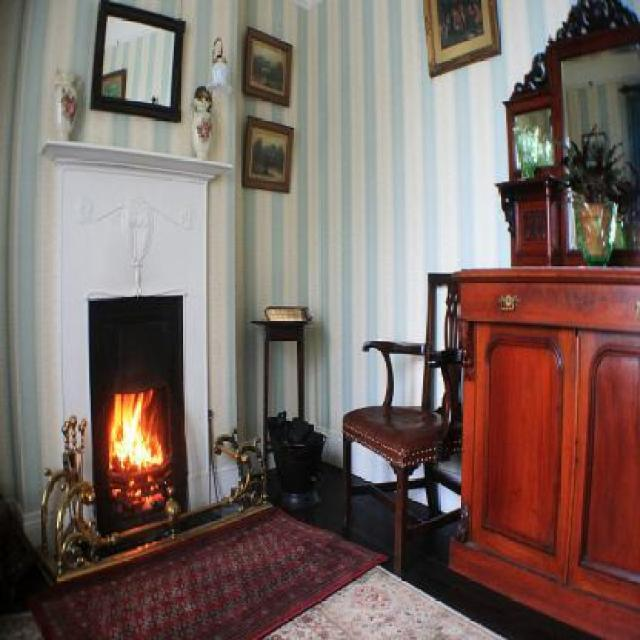Fire: (117, 463, 161, 518), (117, 398, 148, 460)
